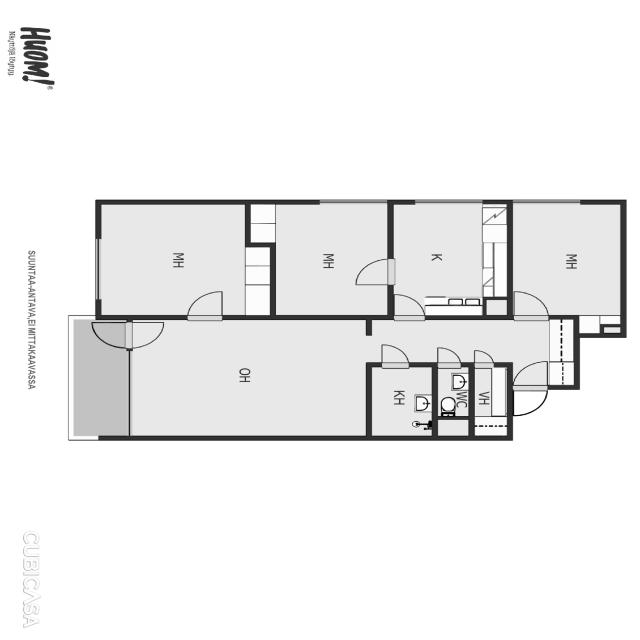door: (89, 319, 171, 349), (510, 358, 551, 418), (185, 289, 228, 320), (352, 258, 396, 288), (389, 292, 426, 321), (514, 290, 549, 320), (378, 342, 411, 369), (435, 346, 461, 368), (471, 348, 495, 368)
window: (91, 236, 105, 302), (409, 196, 492, 207), (125, 352, 136, 427), (512, 197, 584, 206), (316, 197, 386, 206)
zone: (123, 318, 371, 439), (98, 201, 264, 319), (252, 200, 394, 319), (390, 201, 510, 317), (509, 202, 624, 318), (369, 364, 433, 438), (472, 363, 507, 441), (436, 364, 470, 423)
